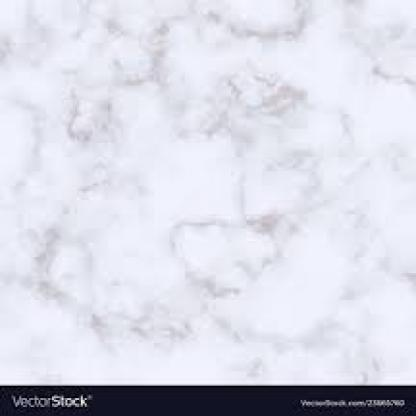Metamorphic_Marble: (2, 5, 414, 377)
